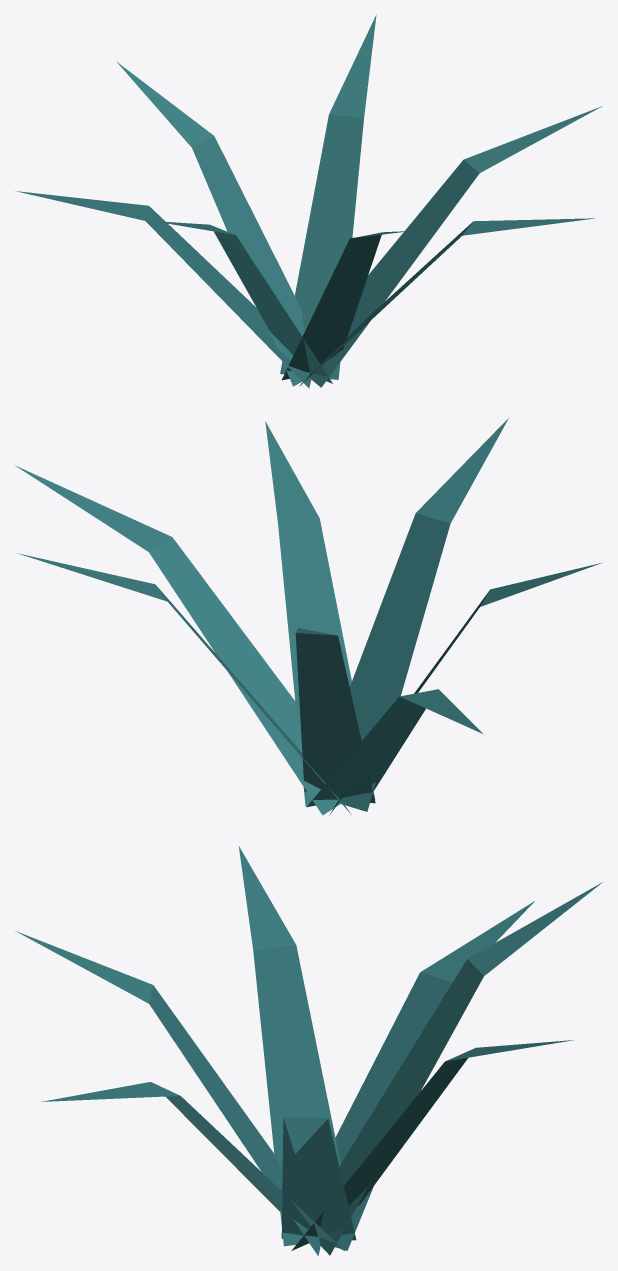
File: fern.glb
3 renders of one model, top to bottom at view 1: azimuth 30°, elevation 25°; view 2: azimuth 150°, elevation 25°; view 3: azimuth 270°, elevation 25°, orthographic. The views are drawn at different scales.
Parts seen in each view (by area): view 1: fern; view 2: fern; view 3: fern.
Part boxes in pixels (x1=…): fern: x1=15, y1=15, x2=602, y2=388; fern: x1=15, y1=418, x2=602, y2=815; fern: x1=15, y1=846, x2=602, y2=1255.
Size of the model in its own units: 0.9418 by 0.4571 by 0.7854.
Materials: 1 (1 with a texture image).
